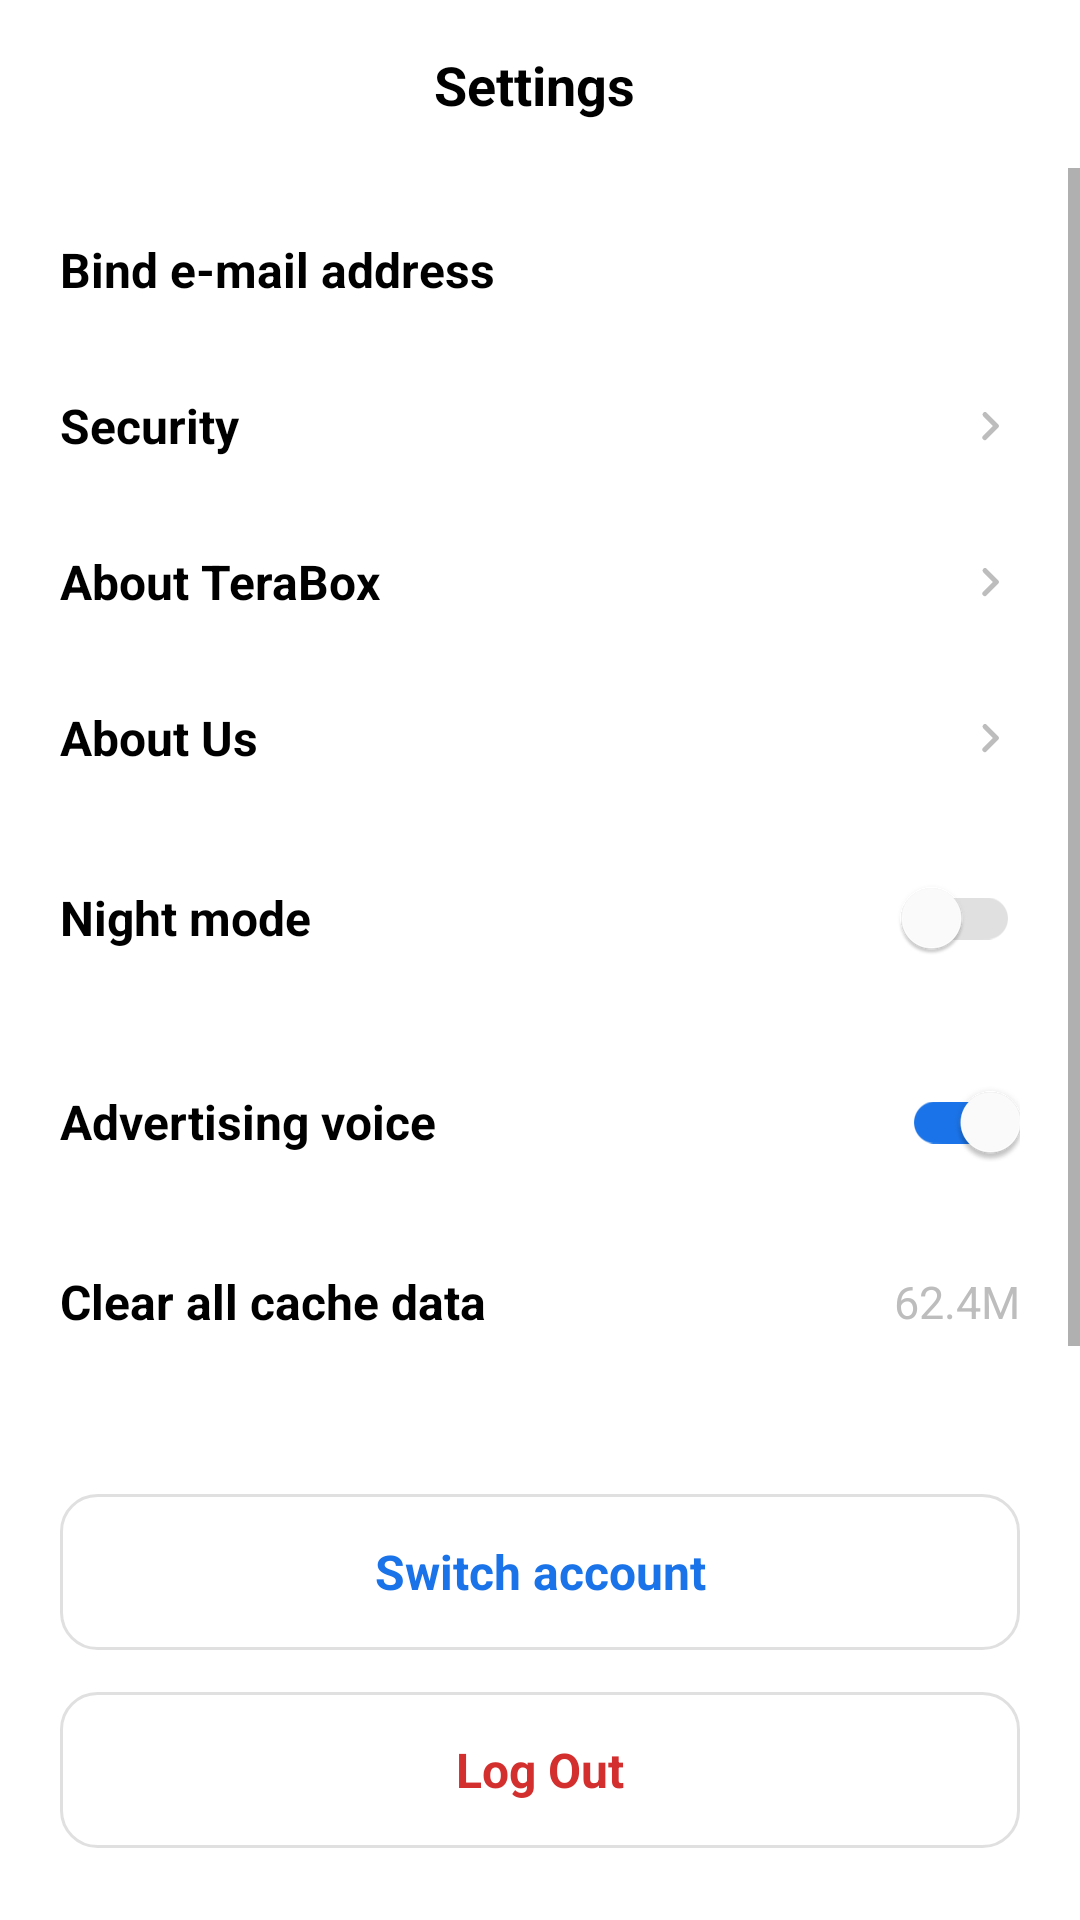

Icons on this 1080 × 1920 Android screen, each with its box as rect(x1, y1, x2, y2):
chevron right: rect(982, 412, 999, 440), rect(982, 568, 999, 596), rect(982, 724, 999, 752)
